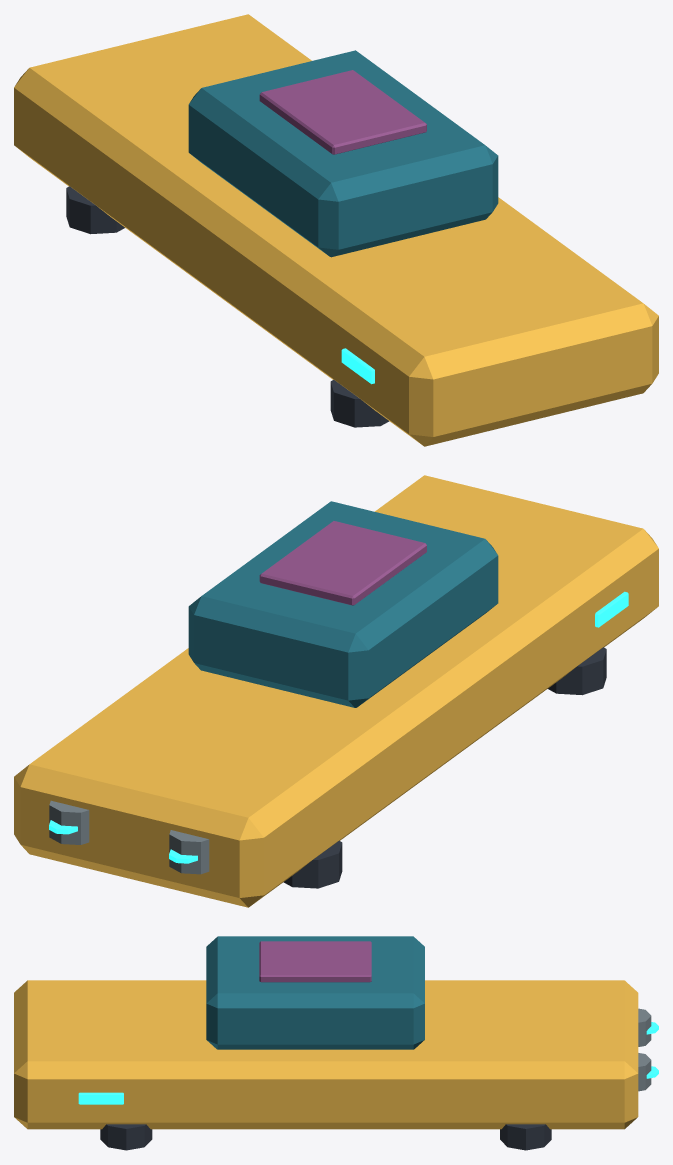
Rendered from vehicles_033_seed11.glb.
The picture shows the model from 3 angles, top to bottom: view 1: azimuth 30°, elevation 25°; view 2: azimuth 150°, elevation 25°; view 3: azimuth 270°, elevation 25°; orthographic projection. The views are drawn at different scales.
Parts seen in each view (by area): view 1: vehicles_033_seed11; view 2: vehicles_033_seed11; view 3: vehicles_033_seed11.
Part boxes in pixels (x1,y1,x2,y2): vehicles_033_seed11: (14,14,658,446); vehicles_033_seed11: (14,475,658,907); vehicles_033_seed11: (14,936,658,1150).
Bounding box in the file's own units: 2.18 × 1.49 × 5.98.
